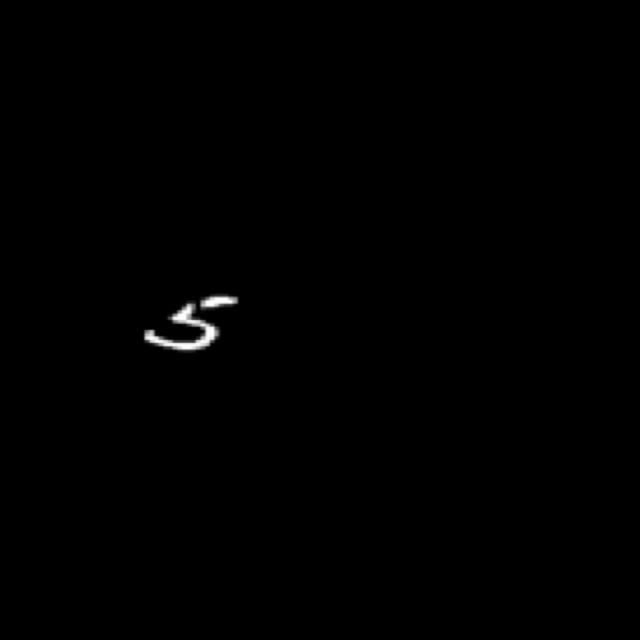five -5-: (132, 289, 246, 357)
